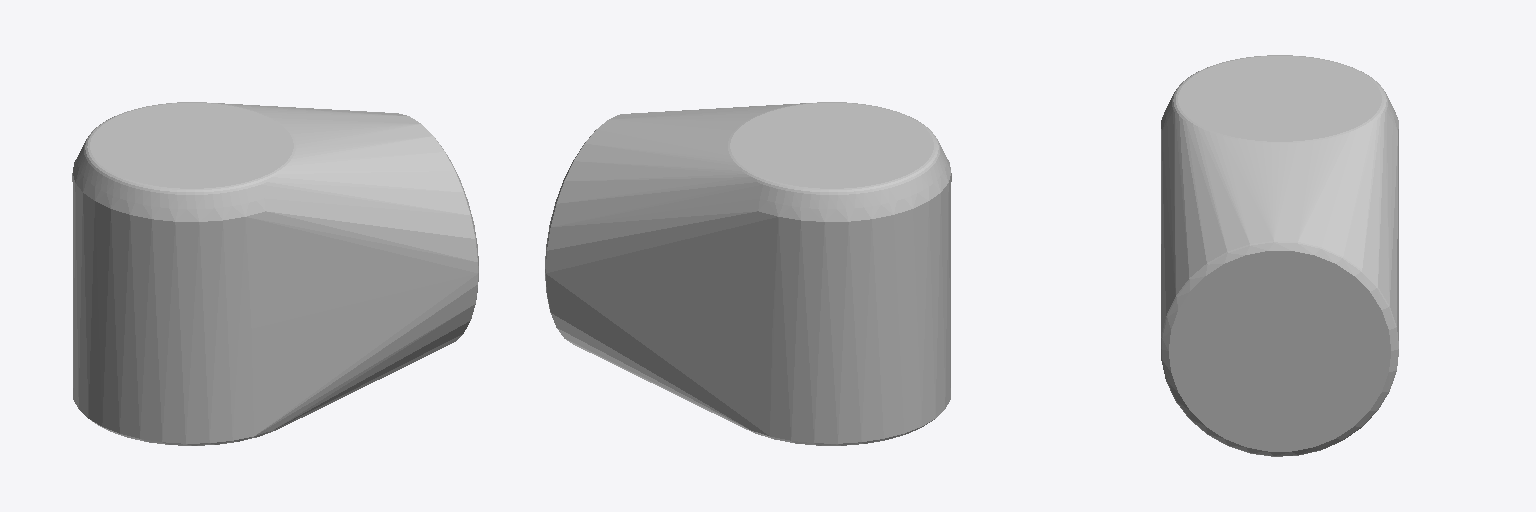
File: wrist_flex_link_collision.obj
The picture shows the model from 3 angles: view 1: azimuth 30°, elevation 25°; view 2: azimuth 150°, elevation 25°; view 3: azimuth 270°, elevation 25°; orthographic projection.
Size of the model in its own units: 0.1685 by 0.121 by 0.104.